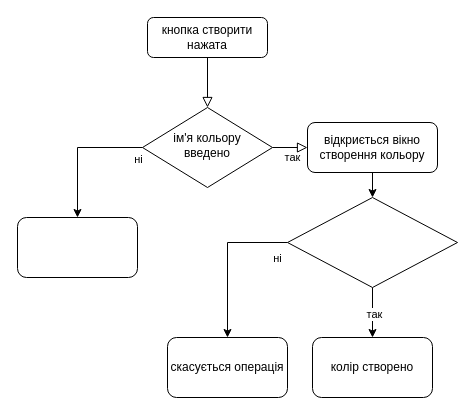
This 475x415 diagram has some shape labels left out. Each missing label, with the centre of its shape:
виведення повідомлення про помилку: (77,247)
користувач вибере колір та натисне кнопку: (372,242)
